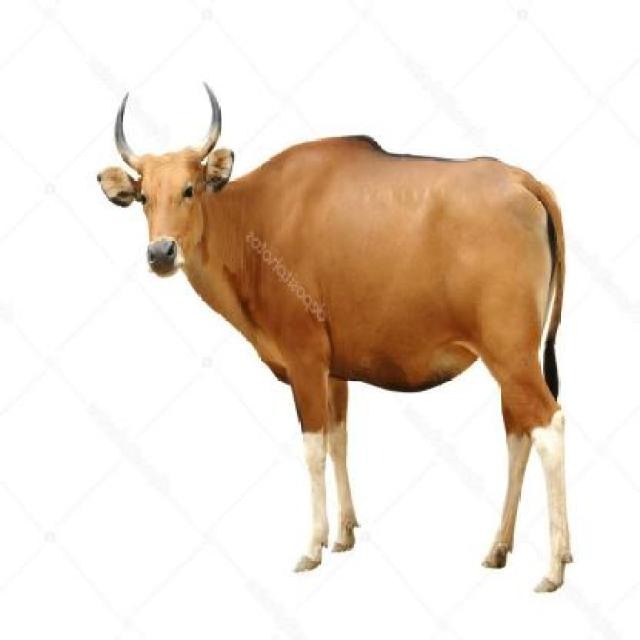Cow: (95, 80, 572, 589)
